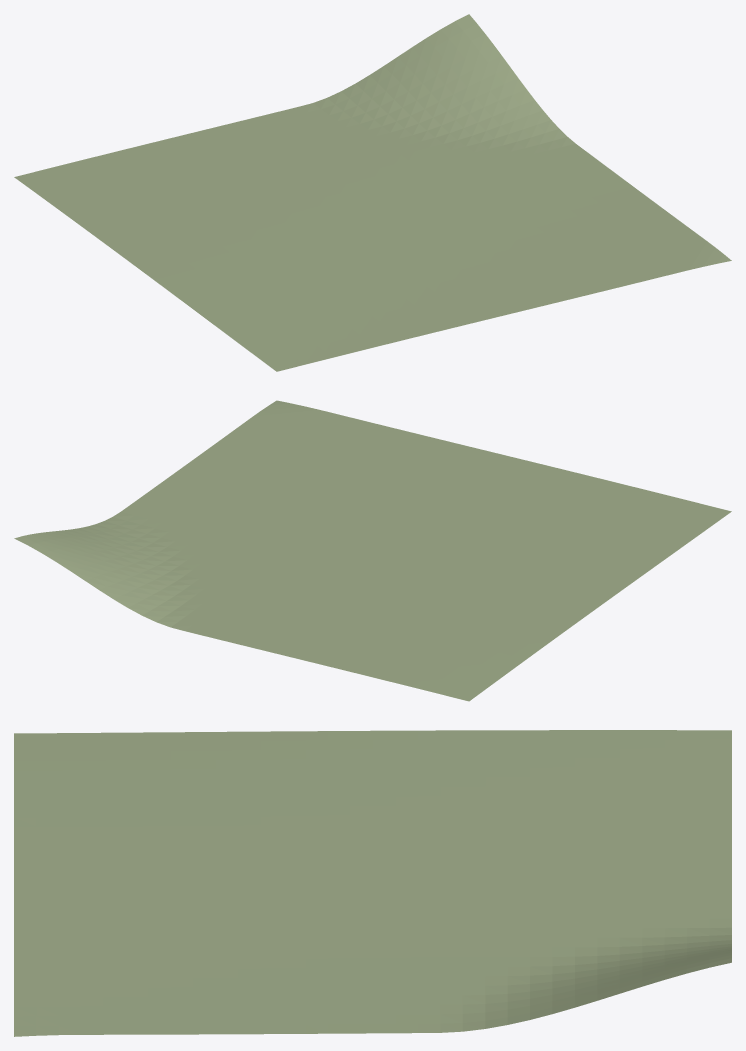
The model's file is desert-20-19.glb.
3 views of the same model, one above another, from view 1: azimuth 30°, elevation 25°; view 2: azimuth 150°, elevation 25°; view 3: azimuth 270°, elevation 25° (orthographic). The views are drawn at different scales.
Parts seen in each view (by area): view 1: desert-20-19; view 2: desert-20-19; view 3: desert-20-19.
Boxes of the visible parts, x1=… form: desert-20-19: x1=14, y1=14, x2=731, y2=371; desert-20-19: x1=14, y1=400, x2=731, y2=701; desert-20-19: x1=14, y1=730, x2=731, y2=1036.
Bounding box in the file's own units: 512 × 58.4 × 512.
